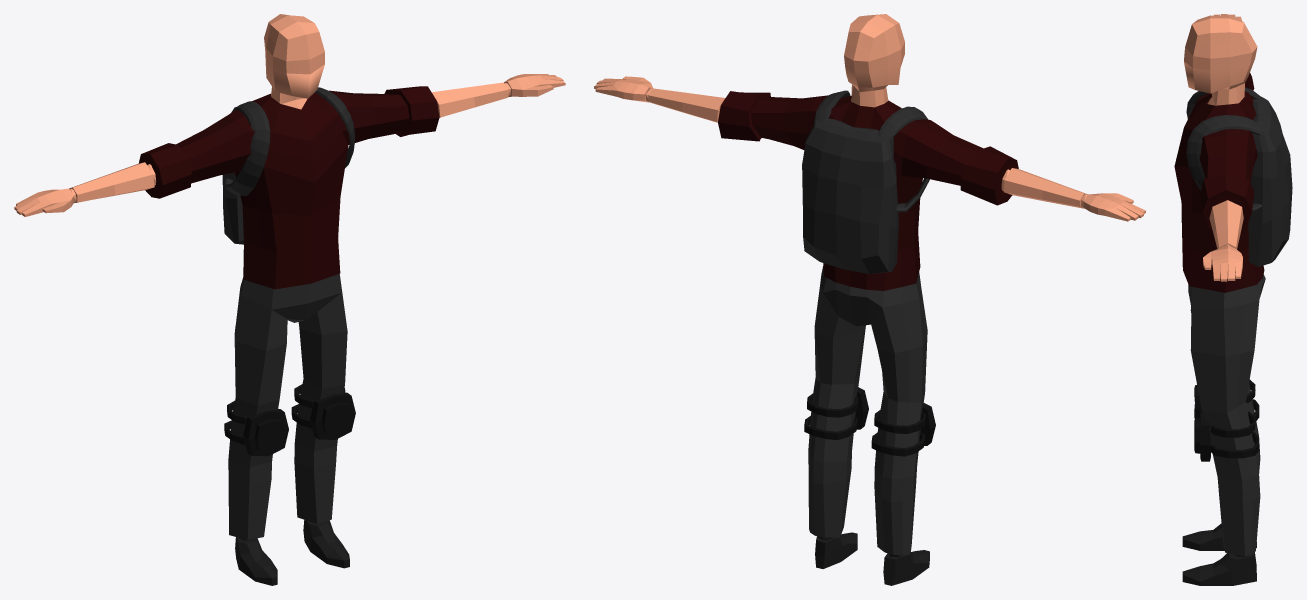
Rendered from Mr_Player 1.fbx.
3 views of the same model, side by side, from view 1: azimuth 30°, elevation 25°; view 2: azimuth 150°, elevation 25°; view 3: azimuth 270°, elevation 25° (orthographic).
Visible parts, largest first — view 1: shirt, pants, base, kneepads, bag, shoes; view 2: pants, shirt, bag, base, kneepads, shoes; view 3: pants, shirt, base, bag, shoes, kneepads.
Boxes of the visible parts, x1,y1,x2,y2 form: shirt: (138,86,439,289); pants: (228,274,347,539); base: (14,14,565,216); kneepads: (224,384,355,456); bag: (222,87,355,244); shoes: (235,520,349,585); pants: (808,266,927,555); shirt: (718,91,1018,290); bag: (802,90,929,273); base: (594,14,1145,221); kneepads: (804,387,935,456); shoes: (815,532,929,585); pants: (1188,274,1265,556); shirt: (1174,73,1264,292); base: (1184,14,1257,281); bag: (1186,87,1292,266); shoes: (1182,523,1256,585); kneepads: (1194,379,1259,461).
Bounding box in the file's own units: 179 × 171 × 33.63.
